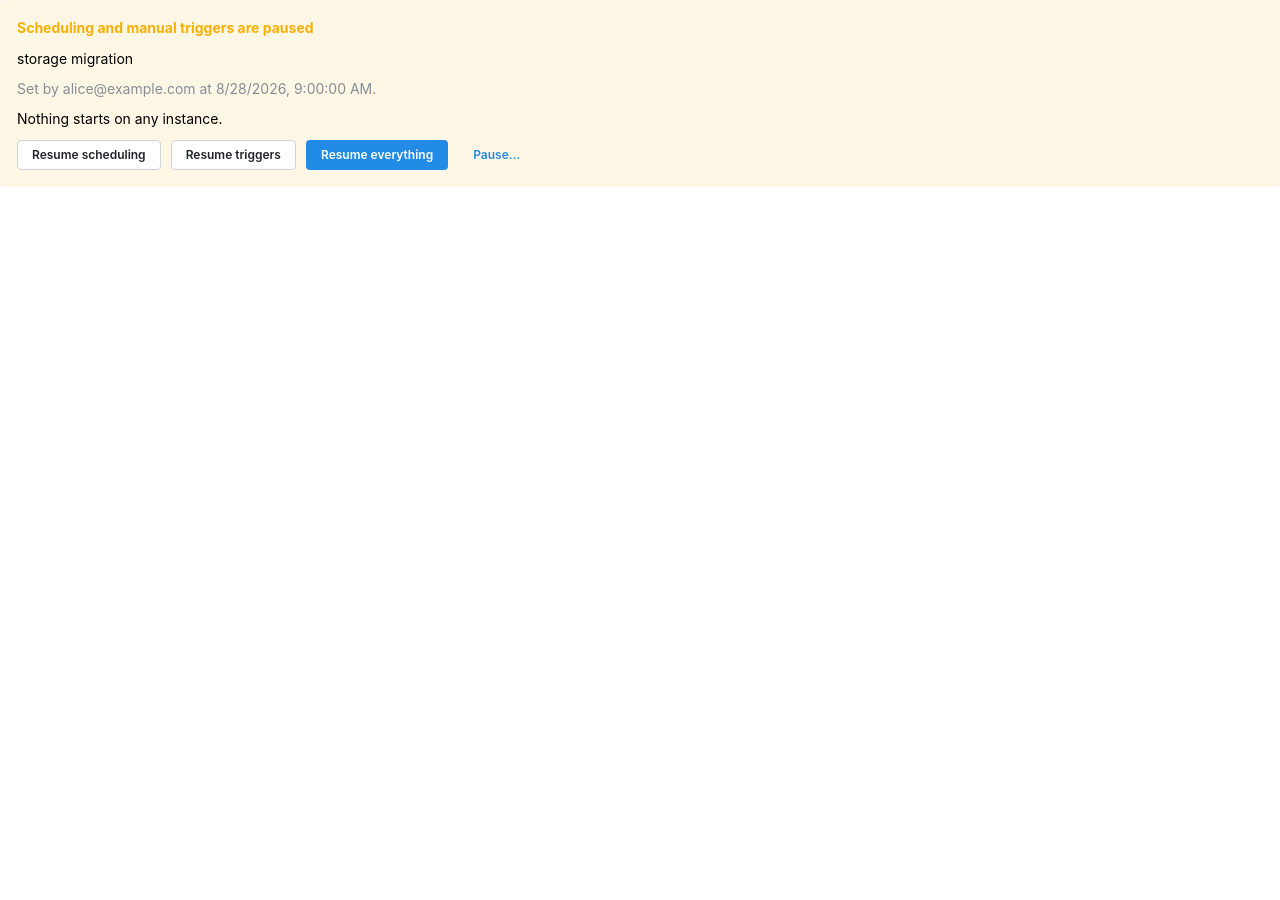
PauseBanner › does not carry a resume refusal into the dialog opened after it
Click the button "Resume everything" at (377, 155), box [306,140,448,170]
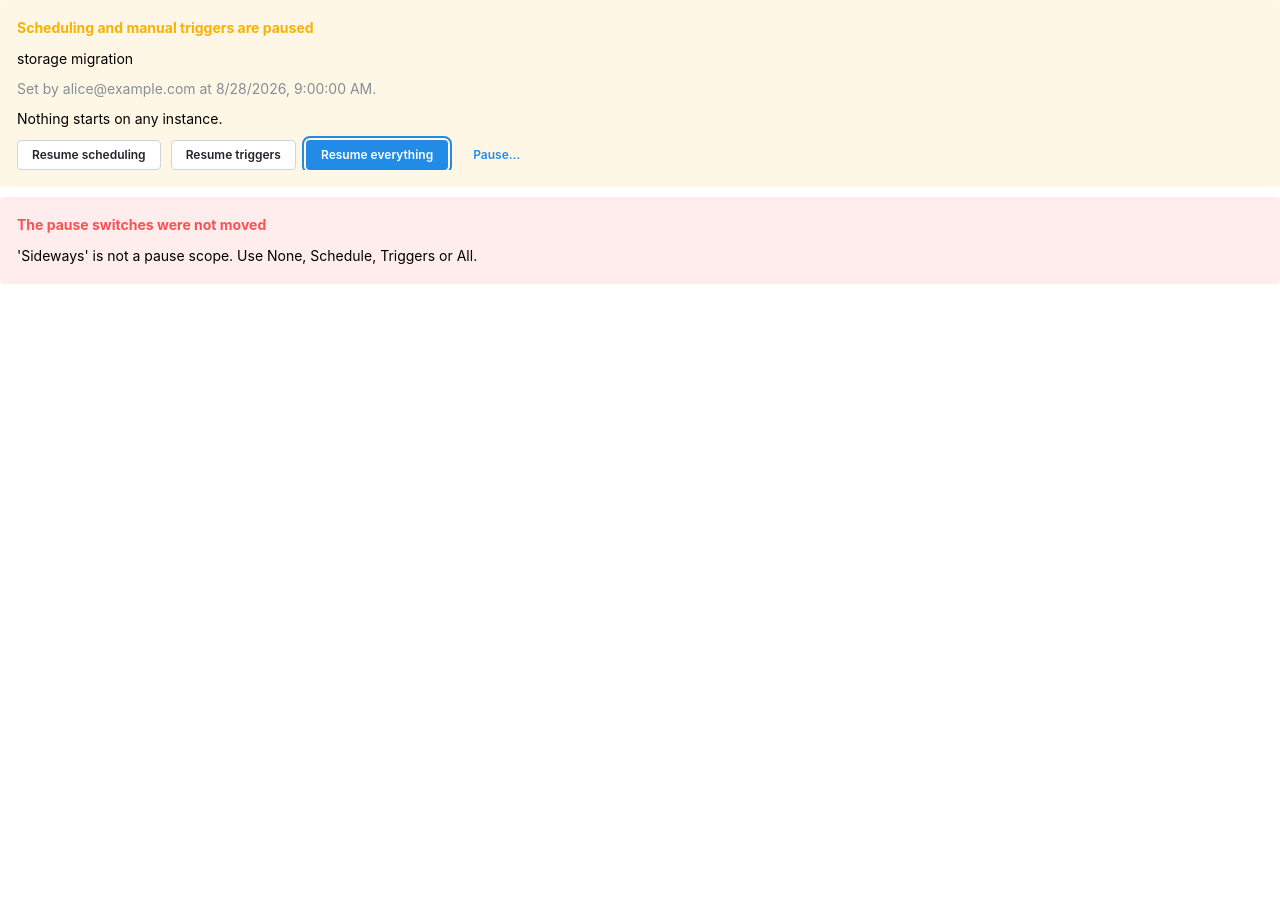
Expected: the text "'Sideways' is not a pause scope. Use None, Schedule, Triggers or All." is shown, [17,247,477,264]
Click the button "Pause…" at (497, 155), box [458,140,535,170]
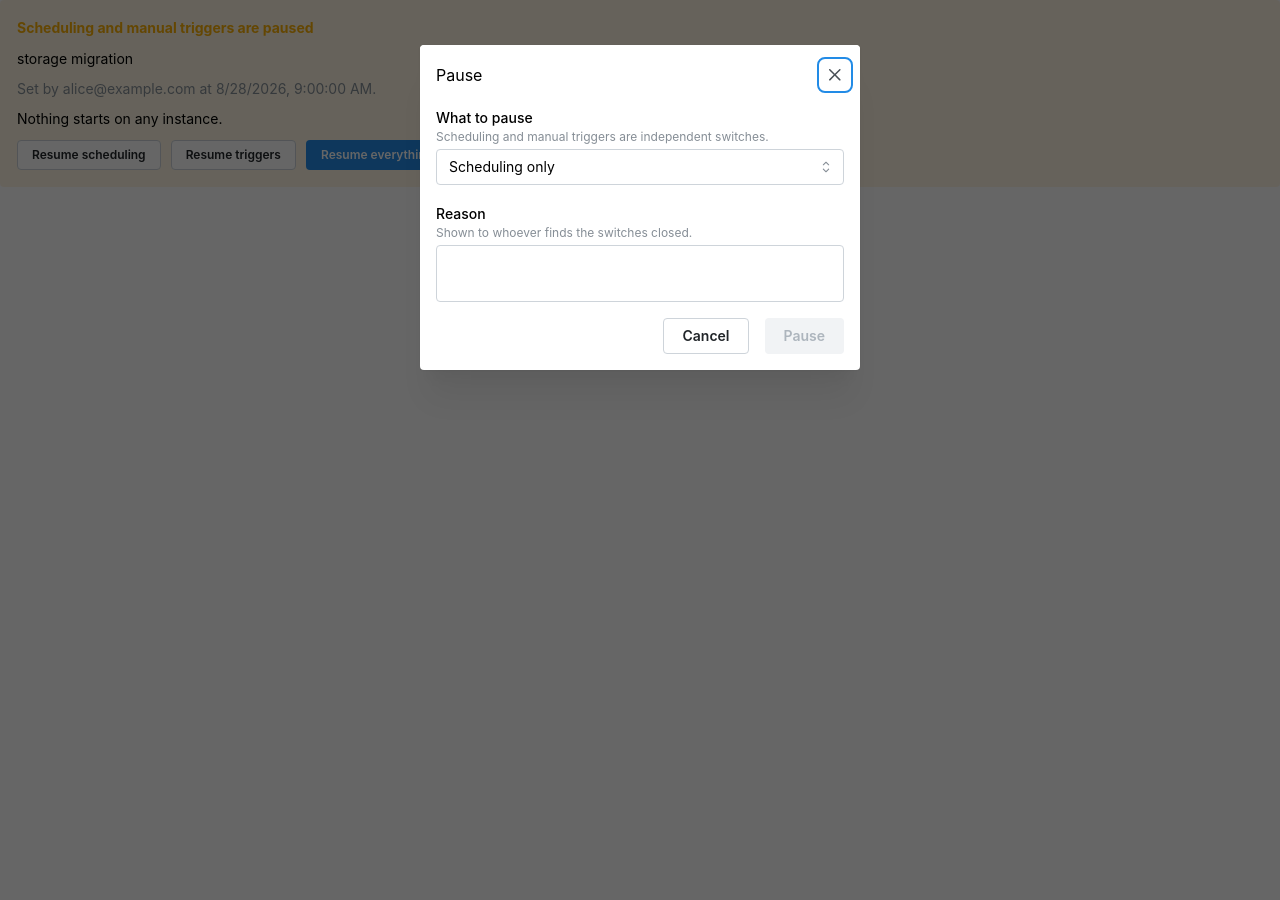
Expected: the text "'Sideways' is not a pause scope. Use None, Schedule, Triggers or All." is gone
